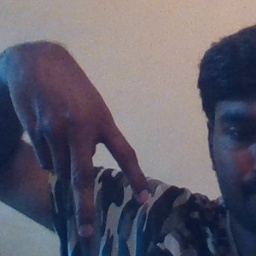Y: (28, 81, 154, 240)
